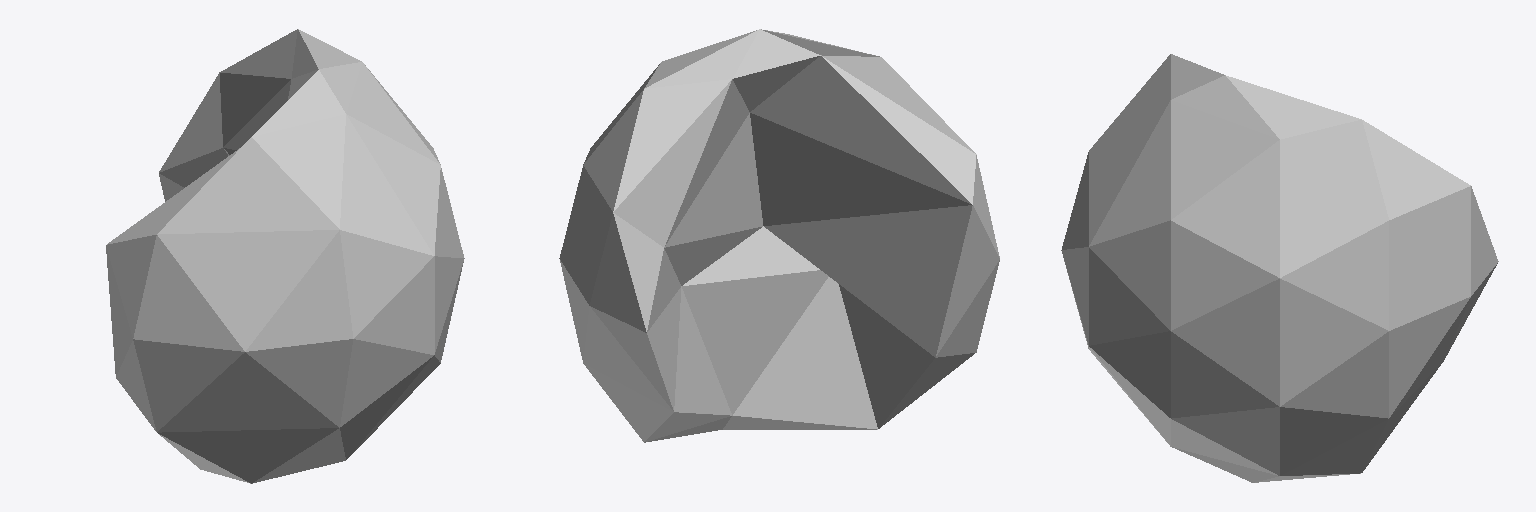
File: base_ball_destroyed_corner.obj
3 renders of one model, left to right at view 1: azimuth 30°, elevation 25°; view 2: azimuth 150°, elevation 25°; view 3: azimuth 270°, elevation 25°, orthographic.
Parts seen in each view (by area): view 1: Icosphere; view 2: Icosphere; view 3: Icosphere.
Part boxes in pixels (x1,y1,x2,y2): Icosphere: (106, 29, 464, 483); Icosphere: (559, 29, 999, 442); Icosphere: (1061, 54, 1498, 482).
Bounding box in the file's own units: 15 × 16 × 16.